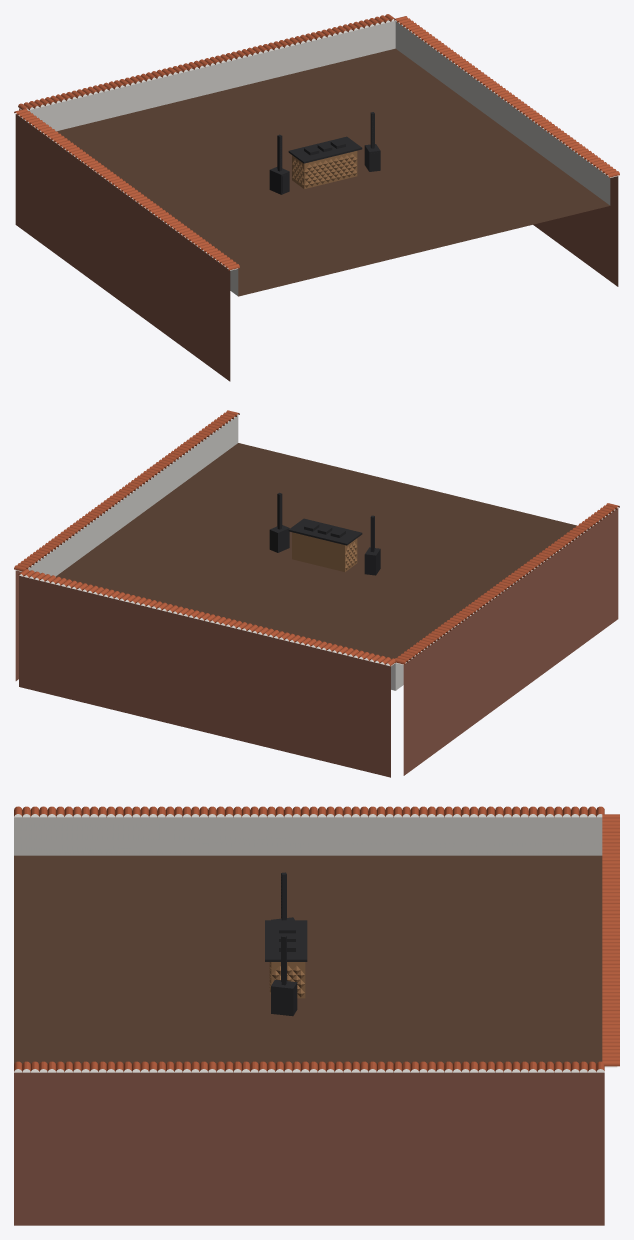
Rendered from roof.glb.
3 views of the same model, one above another, from view 1: azimuth 30°, elevation 25°; view 2: azimuth 150°, elevation 25°; view 3: azimuth 270°, elevation 25° (orthographic). The views are drawn at different scales.
Parts seen in each view (by area): view 1: deck, brick, plaster, tiles, booth_body, speaker, booth_top; view 2: brick, deck, tiles, plaster, booth_body, speaker, booth_top; view 3: deck, brick, plaster, tiles, speaker, booth_top, booth_body.
Boxes of the visible parts, x1=… form: deck: x1=57, y1=48, x2=609, y2=296; brick: x1=15, y1=108, x2=618, y2=381; plaster: x1=16, y1=19, x2=617, y2=295; tiles: x1=14, y1=14, x2=619, y2=270; booth_body: x1=292, y1=151, x2=357, y2=188; speaker: x1=269, y1=112, x2=380, y2=194; booth_top: x1=288, y1=136, x2=362, y2=163; brick: x1=15, y1=508, x2=618, y2=777; deck: x1=56, y1=443, x2=576, y2=662; tiles: x1=14, y1=410, x2=619, y2=666; plaster: x1=16, y1=415, x2=617, y2=690; booth_body: x1=292, y1=532, x2=357, y2=571; speaker: x1=269, y1=492, x2=380, y2=575; booth_top: x1=288, y1=518, x2=362, y2=545; deck: x1=14, y1=855, x2=602, y2=1064; brick: x1=14, y1=1072, x2=604, y2=1225; plaster: x1=14, y1=814, x2=617, y2=1072; tiles: x1=14, y1=806, x2=619, y2=1072; speaker: x1=271, y1=872, x2=297, y2=1016; booth_top: x1=265, y1=920, x2=307, y2=961; booth_body: x1=269, y1=962, x2=305, y2=998.
Size of the model in its own units: 14.72 by 4.98 by 14.36.
